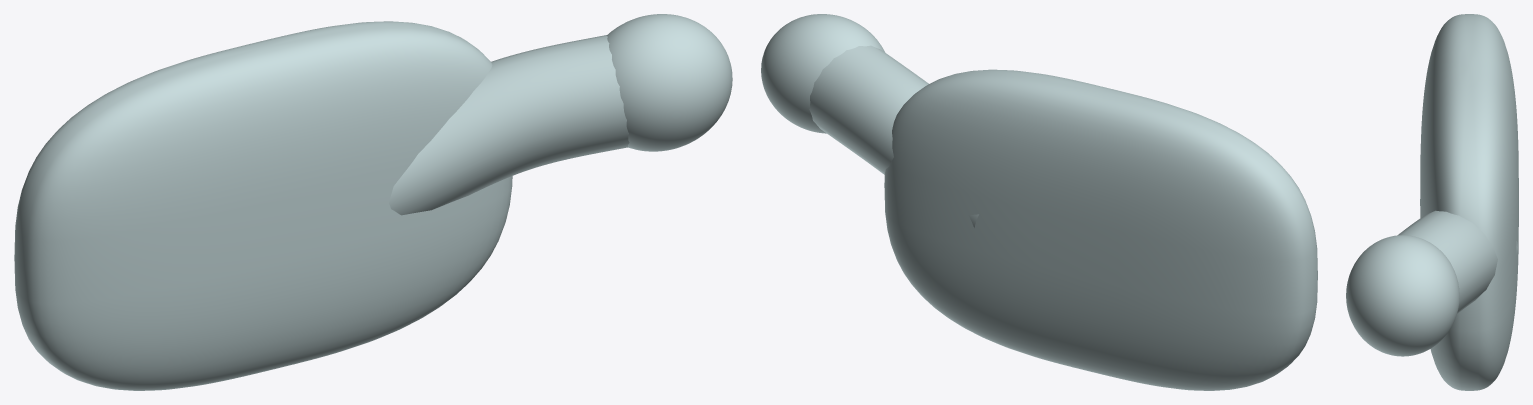
The picture shows the model from 3 angles, left to right: view 1: azimuth 30°, elevation 25°; view 2: azimuth 150°, elevation 25°; view 3: azimuth 270°, elevation 25°; orthographic projection. The views are drawn at different scales.
Parts seen in each view (by area): view 1: parent-edge, liquid-tongue, tongue-head; view 2: parent-edge, liquid-tongue, tongue-head; view 3: parent-edge, tongue-head, liquid-tongue.
Boxes of the visible parts, bbox=[...] form: parent-edge: bbox=[14, 21, 512, 390]; liquid-tongue: bbox=[389, 35, 629, 215]; tongue-head: bbox=[607, 14, 732, 151]; parent-edge: bbox=[884, 69, 1317, 390]; liquid-tongue: bbox=[809, 45, 978, 227]; tongue-head: bbox=[761, 14, 884, 133]; parent-edge: bbox=[1420, 14, 1518, 390]; tongue-head: bbox=[1346, 235, 1459, 356]; liquid-tongue: bbox=[1398, 210, 1517, 313].
Bounding box in the file's own units: 2.68 × 1.22 × 0.7.
